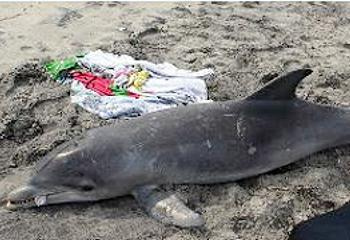fish: (8, 69, 350, 228)
